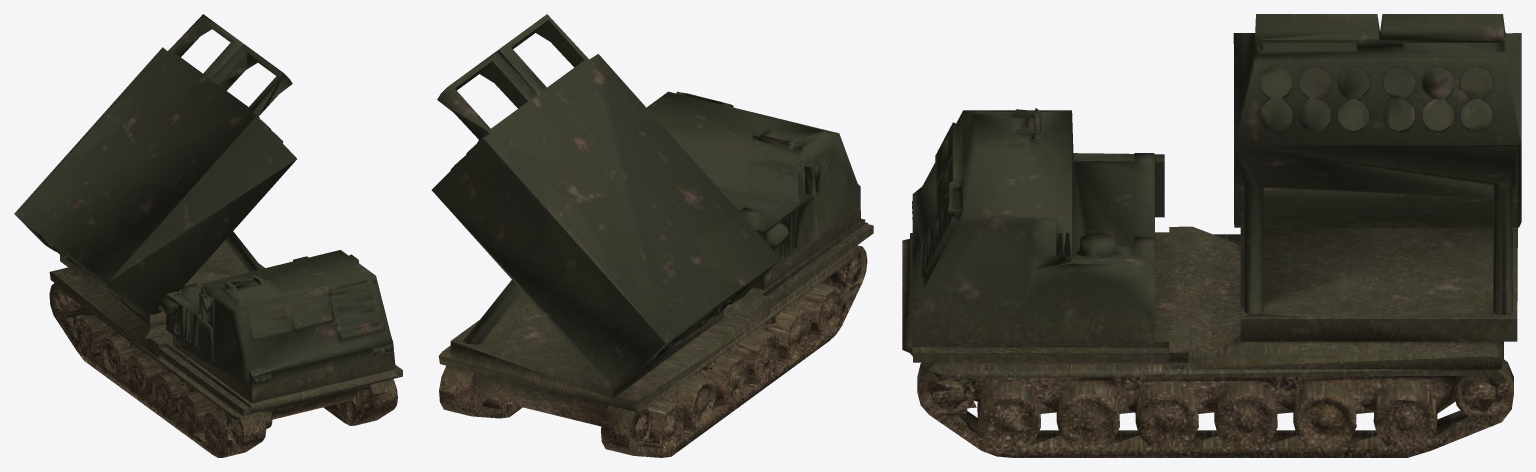
Rendered from mlrs_m270.glb.
The picture shows the model from 3 angles, left to right: view 1: azimuth 30°, elevation 25°; view 2: azimuth 150°, elevation 25°; view 3: azimuth 270°, elevation 25°; orthographic projection. The views are drawn at different scales.
Visible parts, largest first — view 1: MLRS_firing_complete; view 2: MLRS_firing_complete; view 3: MLRS_firing_complete.
Boxes of the visible parts, x1,y1,x2,y2 form: MLRS_firing_complete: (14,14,402,457); MLRS_firing_complete: (431,14,873,457); MLRS_firing_complete: (902,14,1521,457).
Size of the model in its own units: 3.82 by 5.47 by 6.96.
Materials: 1 (1 with a texture image).
